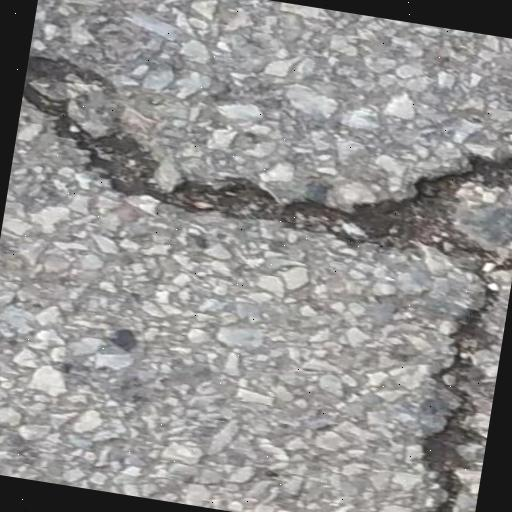spalling: (22, 57, 512, 512)
